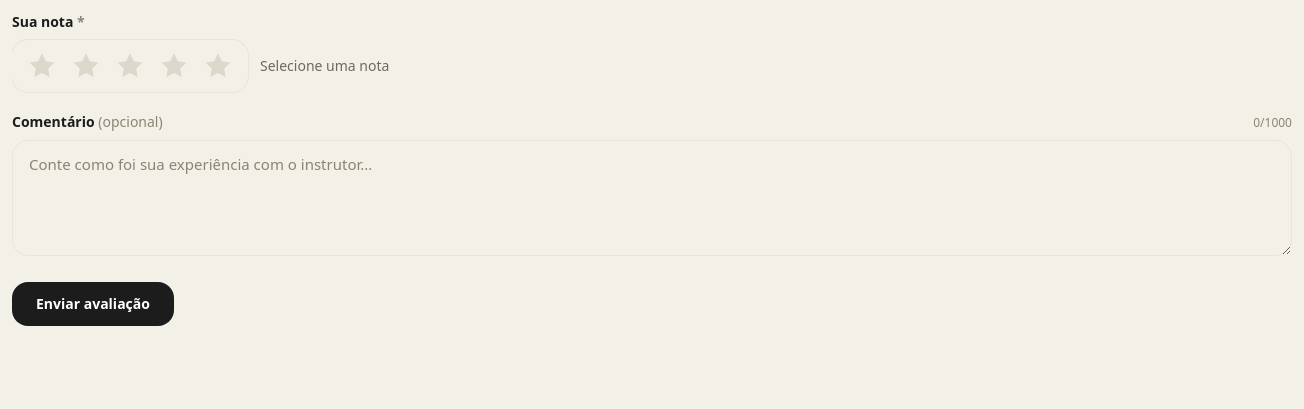
Test: BL05.1 · ReviewSection › trata erros 422, 403 e 409 retornados pelo backend ao enviar
Click the radio button named "4 estrelas" at (174, 66), box [154, 46, 194, 86]
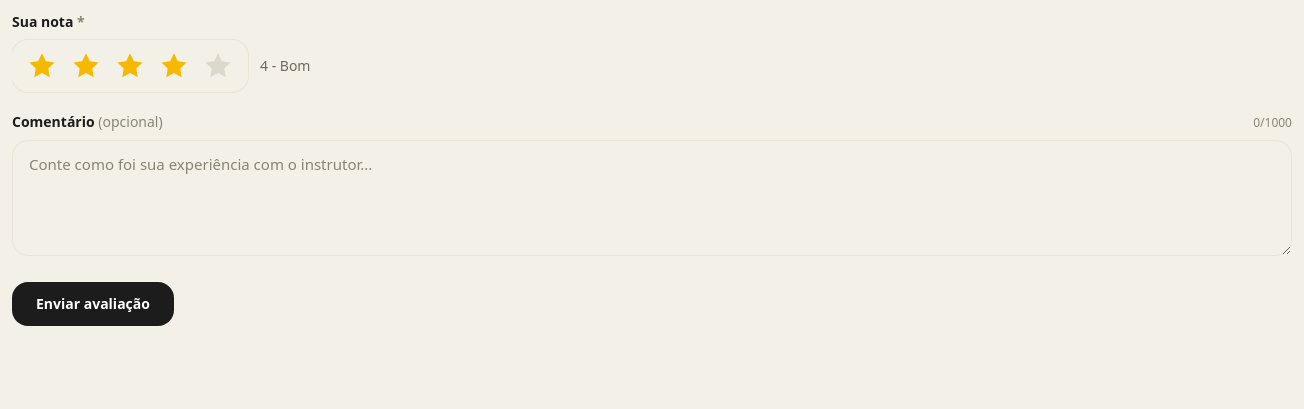
Type "Teste" into the text box labelled "Comentário (opcional)" at (652, 198), box [12, 140, 1292, 256]
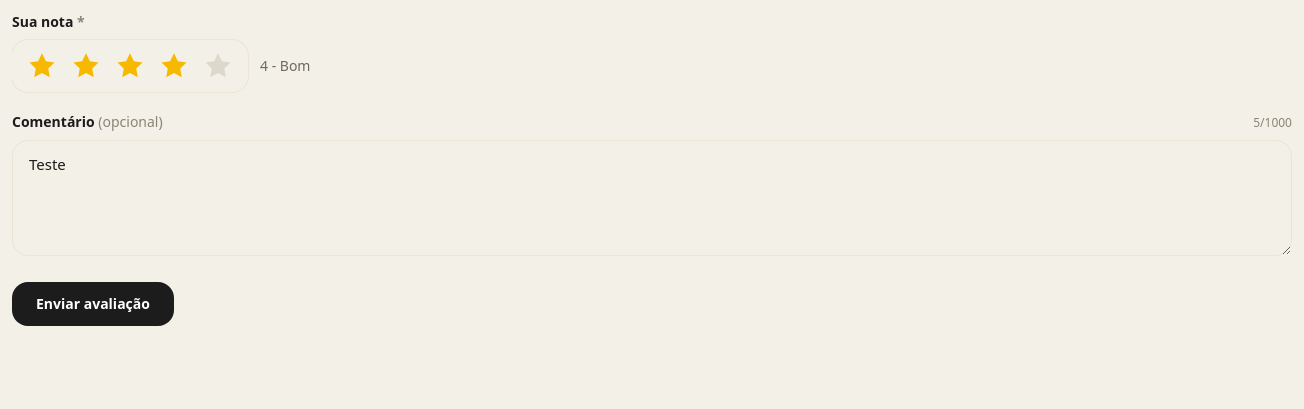
Click the button "Enviar avaliação" at (93, 304), box [12, 282, 174, 326]
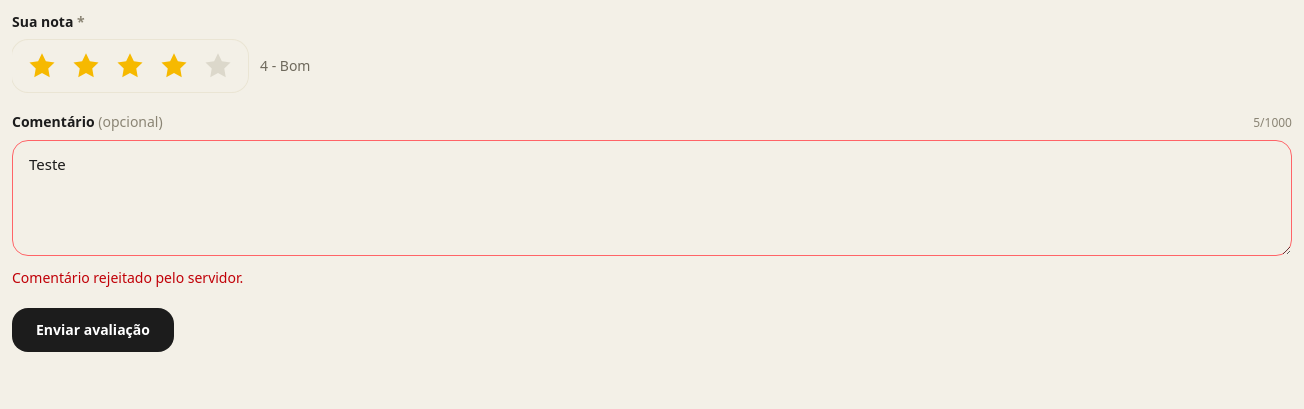
Check: the text "Comentário rejeitado pelo servidor." is shown, box [12, 268, 243, 287]
Replace the text in the text box labelled "Comentário (opcional)" with "Teste 2" at (652, 198), box [12, 140, 1292, 256]
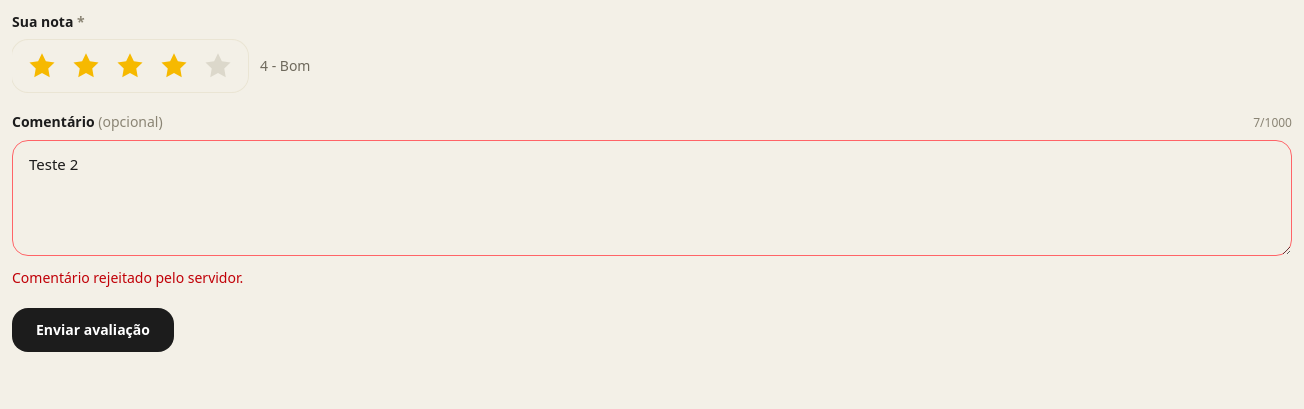
Click the button "Enviar avaliação" at (93, 330), box [12, 308, 174, 352]
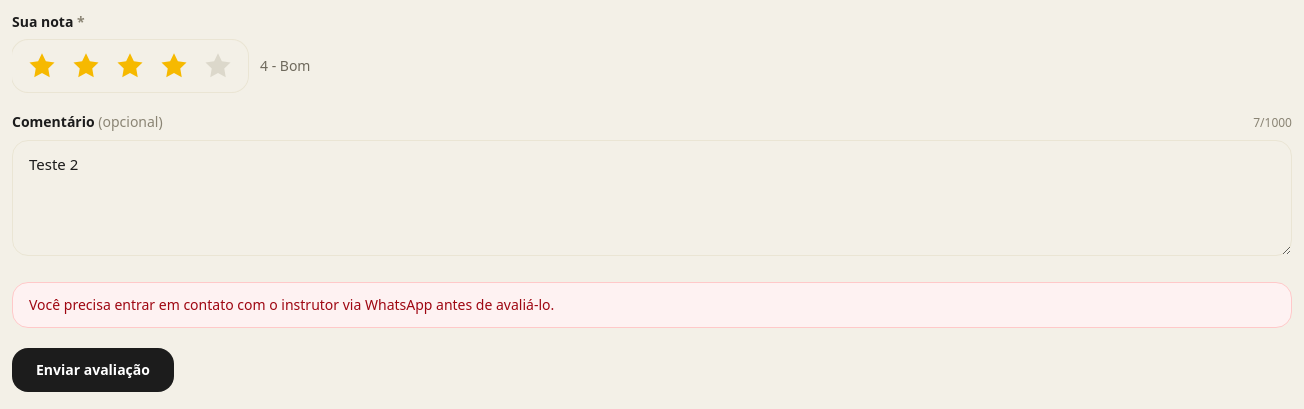
Check: the text "Você precisa entrar em contato com o instrutor via WhatsApp antes de avaliá-lo." is shown, box [12, 282, 1292, 328]
Click the button "Enviar avaliação" at (93, 370), box [12, 348, 174, 392]
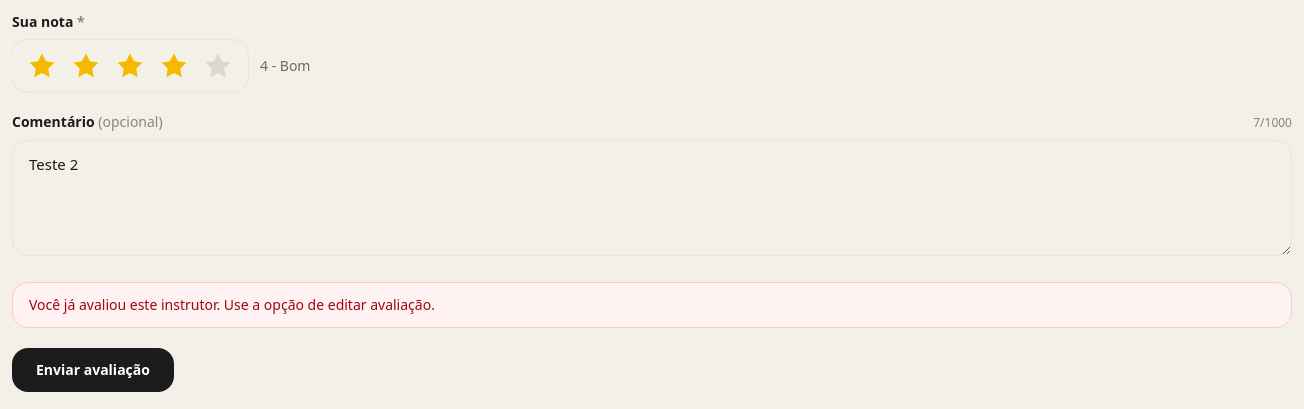
Check: the text "Você já avaliou este instrutor. Use a opção de editar avaliação." is shown, box [12, 282, 1292, 328]
